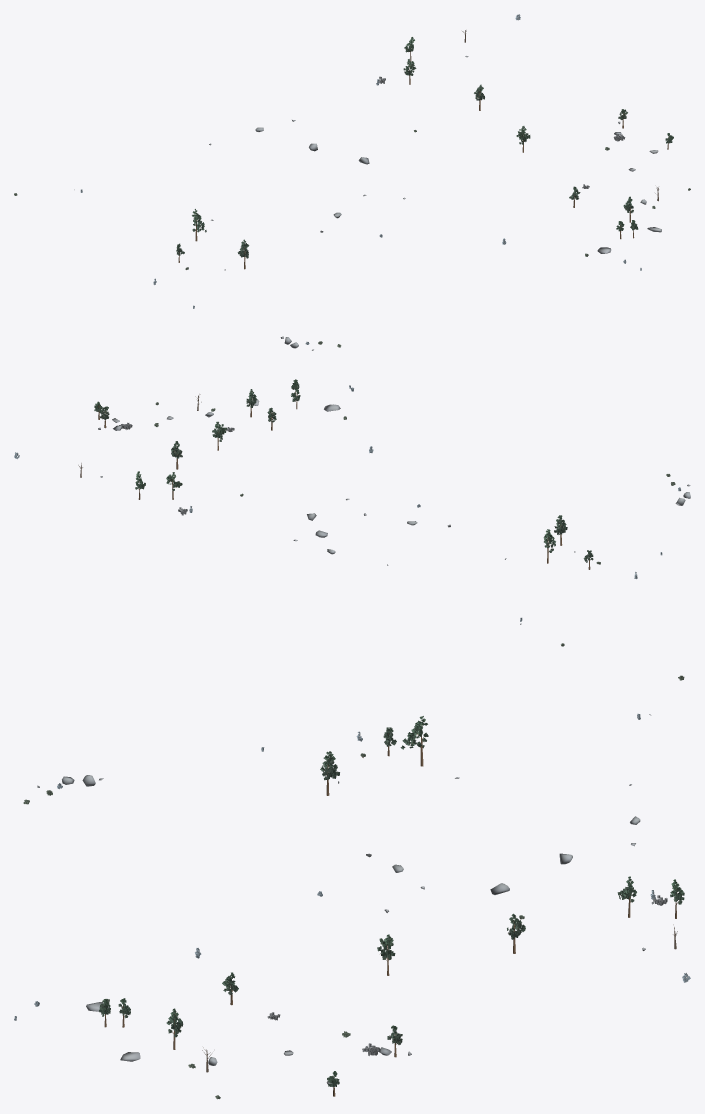
The model's file is frost_land_scatter_c24_10.glb.
3 renders of one model, top to bottom at view 1: azimuth 30°, elevation 25°; view 2: azimuth 150°, elevation 25°; view 3: azimuth 270°, elevation 25°, orthographic. The views are drawn at different scales.
Visible parts, largest first — view 1: frost_land_scatter_c24_10; view 2: frost_land_scatter_c24_10; view 3: frost_land_scatter_c24_10.
Part boxes in pixels (bbox=[...]): frost_land_scatter_c24_10: bbox=[14, 14, 690, 350]; frost_land_scatter_c24_10: bbox=[14, 379, 690, 646]; frost_land_scatter_c24_10: bbox=[14, 675, 690, 1099].
Size of the model in its own units: 247 by 40.16 by 171.
